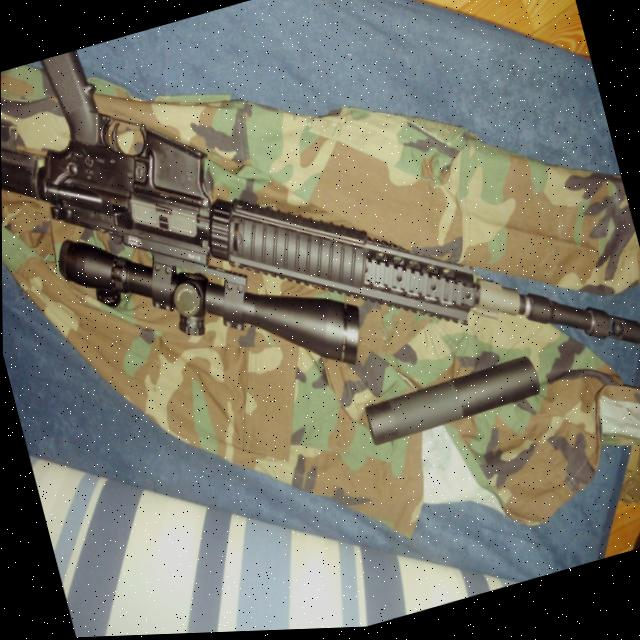firearm: (0, 0, 640, 518)
